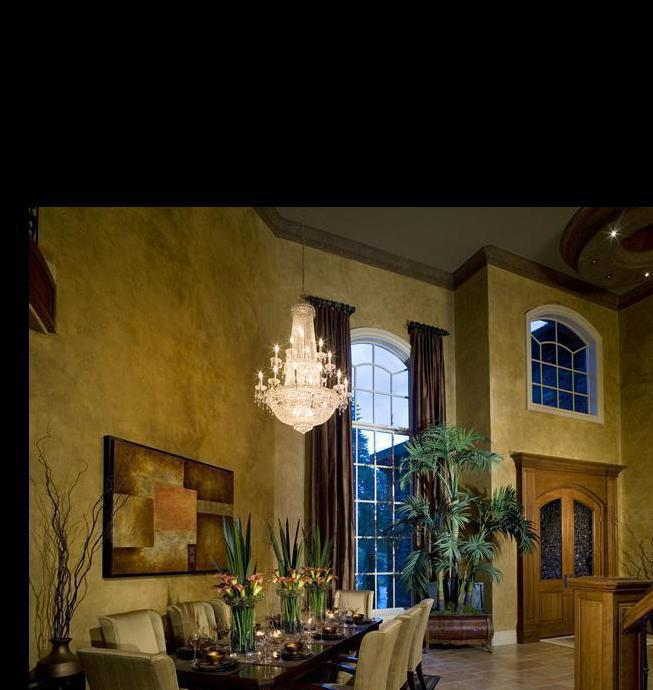Matera: (414, 420, 518, 643)
Puerta: (524, 480, 611, 631)
